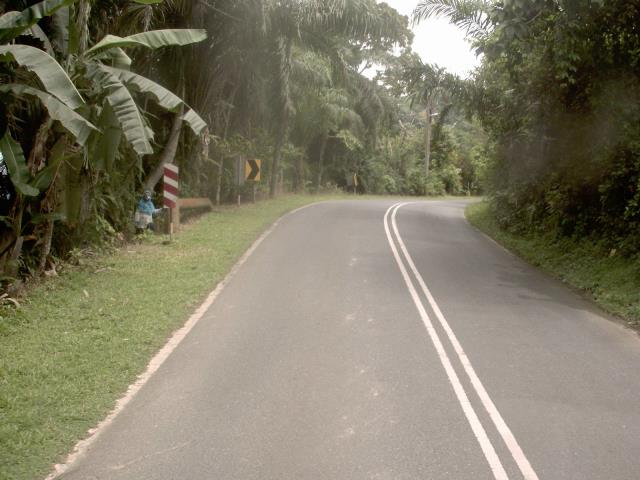traffic_sign: (157, 154, 186, 213)
